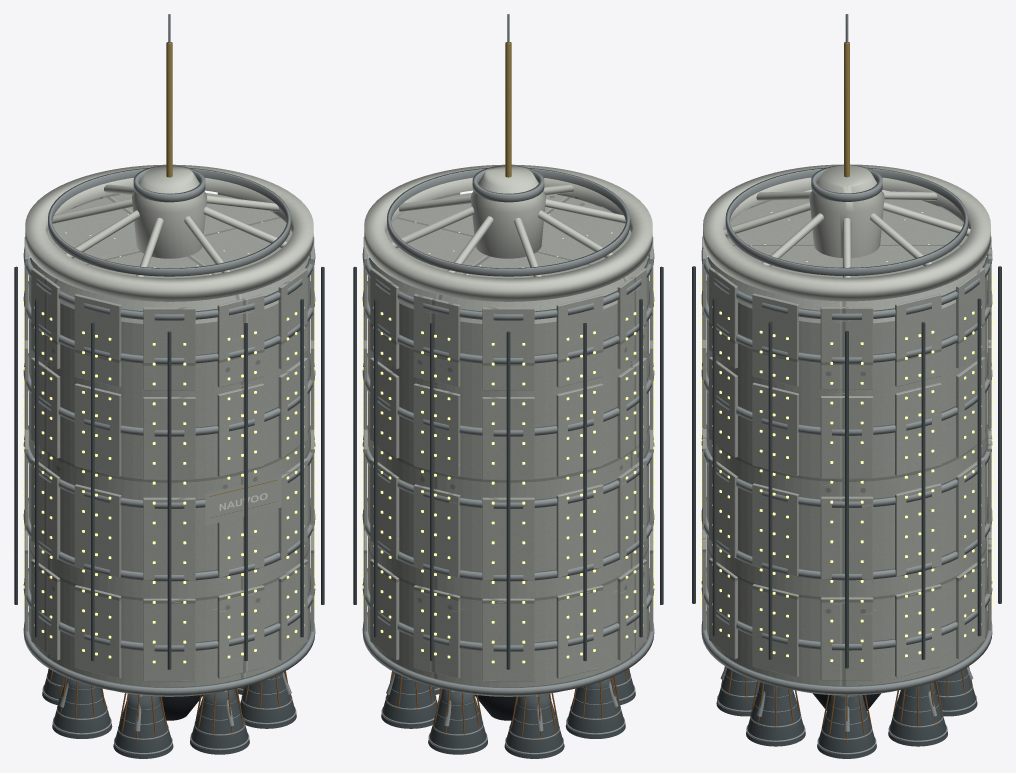
File: Nauvoo.glb
3 renders of one model, left to right at view 1: azimuth 30°, elevation 25°; view 2: azimuth 150°, elevation 25°; view 3: azimuth 270°, elevation 25°, orthographic.
Visible parts, largest first — view 1: paint, white, silver, frame, lamp, copper, accent, dark; view 2: paint, white, silver, frame, lamp, copper, accent, dark; view 3: paint, frame, white, silver, lamp, copper, accent.
Boxes of the visible parts, x1,y1,x2,y2 form: paint: (24,192,314,696); white: (25,164,313,301); silver: (23,14,315,755); frame: (14,266,324,758); lamp: (22,214,316,663); copper: (48,668,291,742); accent: (166,42,172,177); dark: (162,694,202,720); paint: (363,192,653,696); white: (364,164,652,301); silver: (362,14,654,755); frame: (353,266,663,758); lamp: (361,214,655,663); copper: (386,668,629,742); accent: (505,42,511,177); dark: (475,694,515,720); paint: (702,199,991,695); frame: (692,266,1001,758); white: (703,164,990,301); silver: (701,14,992,755); lamp: (700,212,993,661); copper: (720,666,973,742); accent: (844,42,849,177).
Bounding box in the file's own units: 1.48 × 3.67 × 1.48.
Materials: 9 (1 with a texture image).
